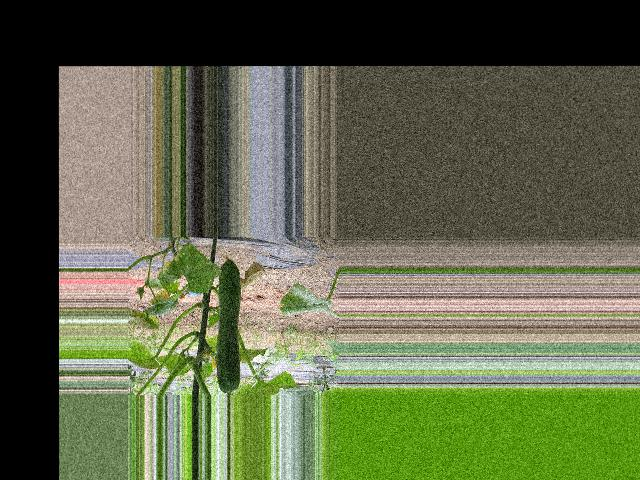cucumber: (216, 255, 241, 392)
